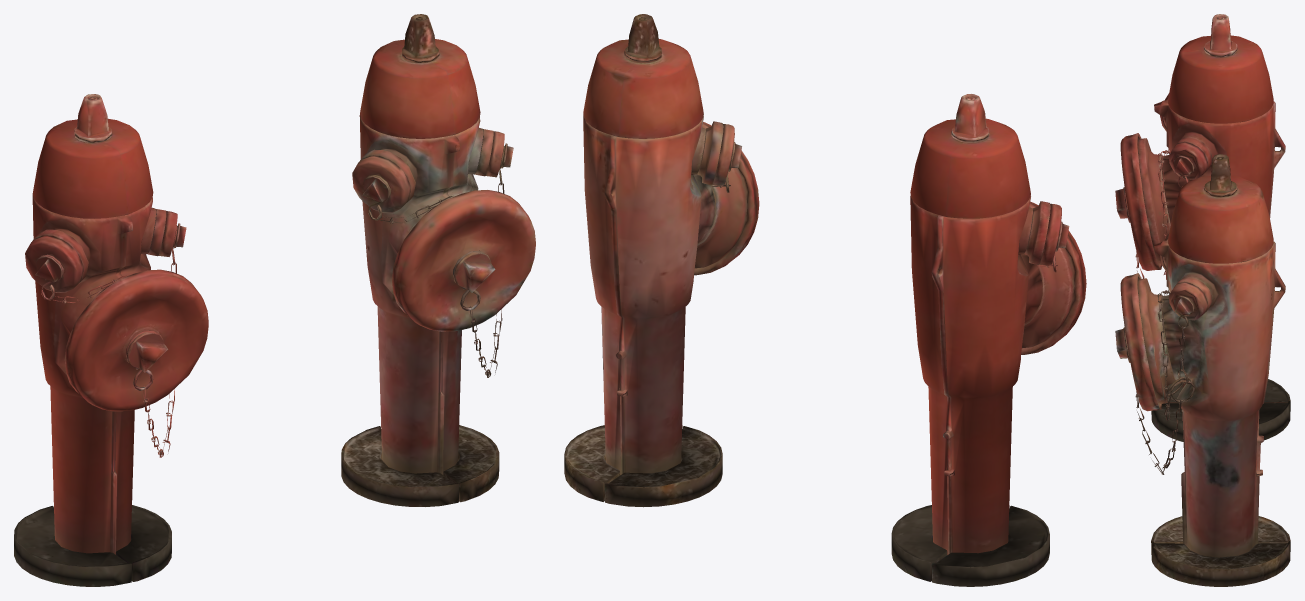
File: fire-hydrant.glb
The picture shows the model from 3 angles, left to right: view 1: azimuth 30°, elevation 25°; view 2: azimuth 150°, elevation 25°; view 3: azimuth 270°, elevation 25°; orthographic projection. The views are drawn at different scales.
Visible parts, largest first — view 1: fire_hydrant_aged, fire_hydrant; view 2: fire_hydrant, fire_hydrant_aged; view 3: fire_hydrant_aged, fire_hydrant.
Boxes of the visible parts, left/top/right/bottom form: fire_hydrant_aged: left=341, top=14, right=535, bottom=506; fire_hydrant: left=14, top=94, right=208, bottom=586; fire_hydrant: left=891, top=94, right=1086, bottom=586; fire_hydrant_aged: left=564, top=14, right=759, bottom=507; fire_hydrant_aged: left=1115, top=154, right=1290, bottom=586; fire_hydrant: left=1115, top=14, right=1290, bottom=441.
Size of the model in its own units: 0.8746 by 0.7994 by 0.3173.
2 materials, 2 textured.
